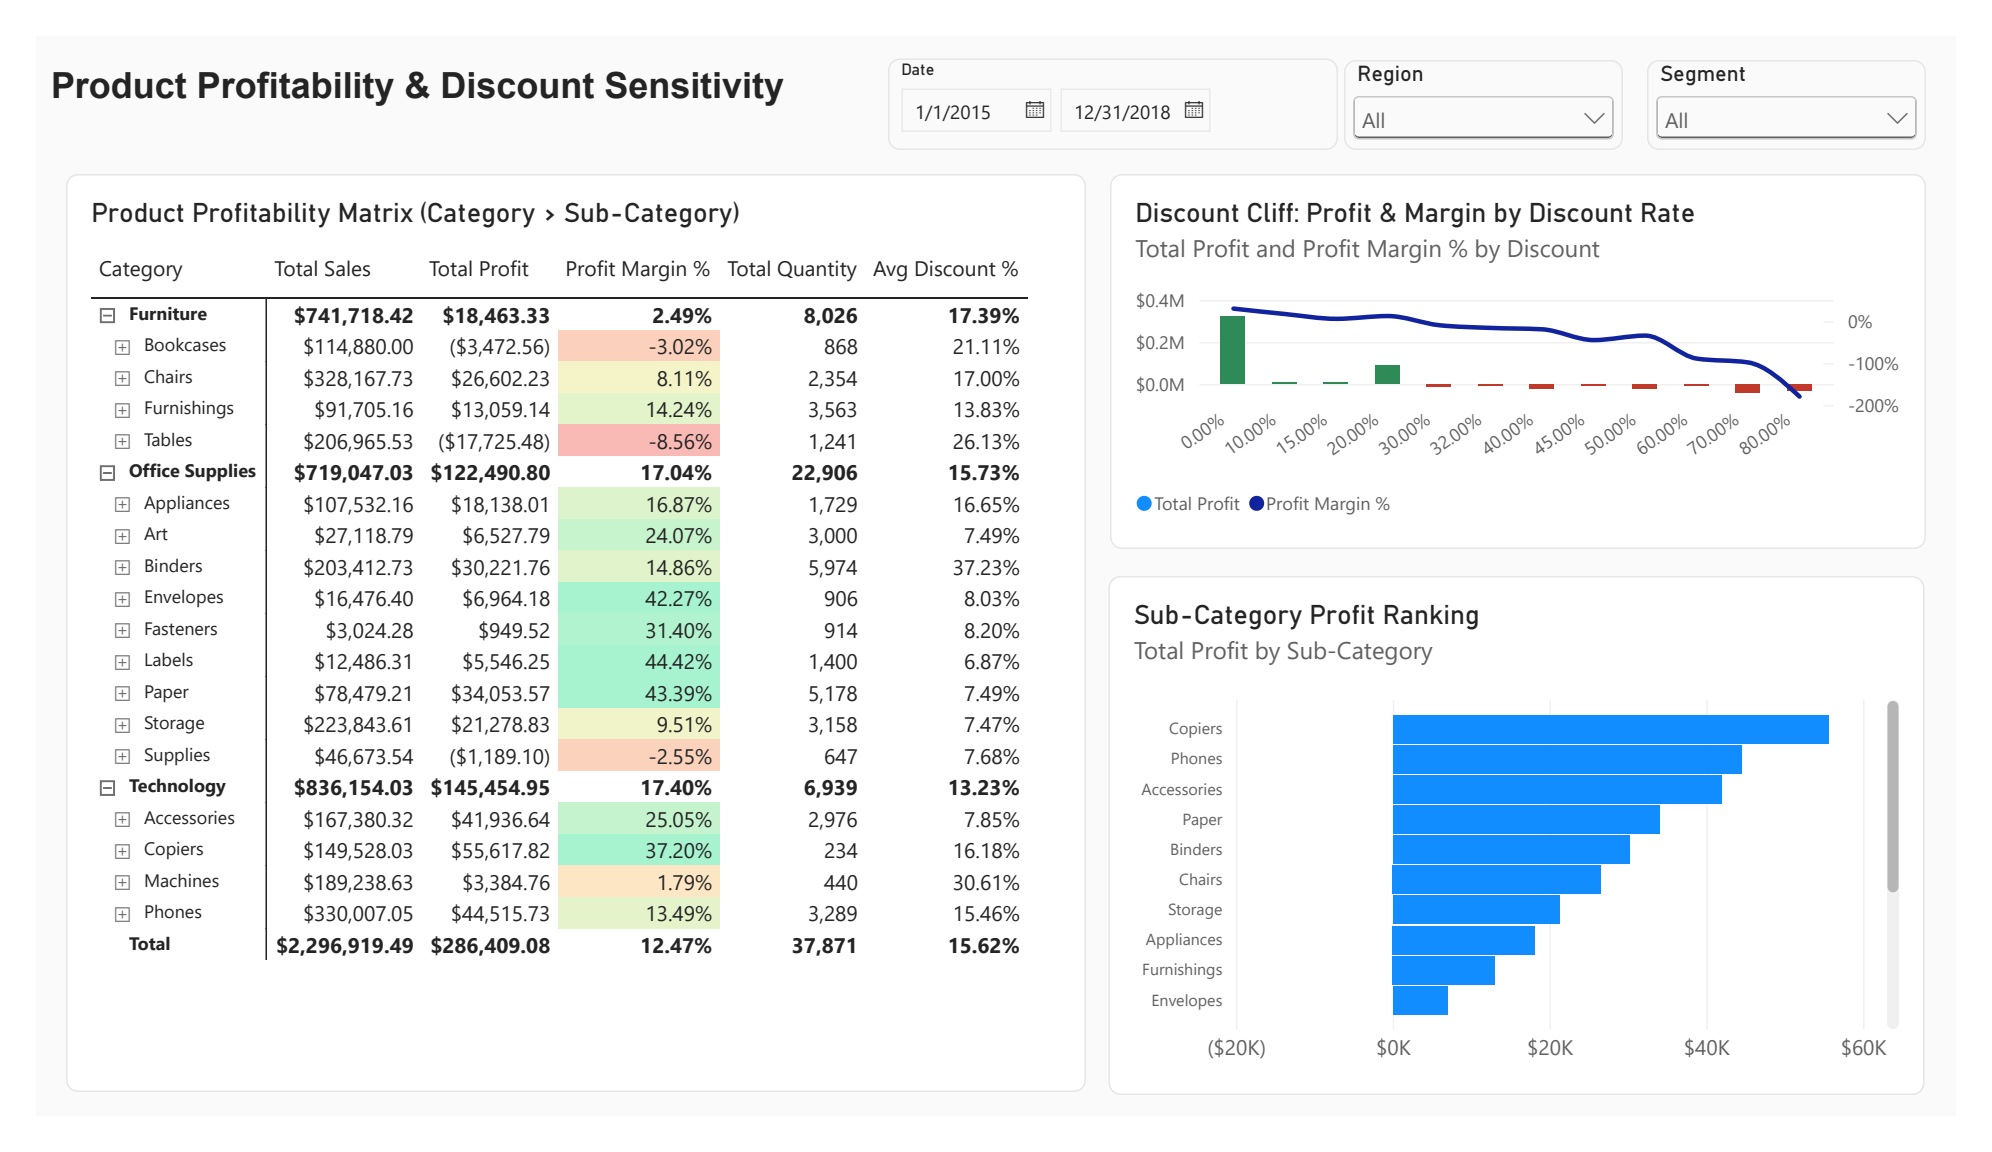

The dashboard page shown, as its layout file describes it:
{"tool":"powerbi","page":{"name":"Product Profitability","canvas":[1280,720],"ordinal":1},"visuals":[{"type":"textbox","box":[9.6,0,546.9,74.6],"z":0},{"type":"slicer","fields":{"Values":["Dim_Date.Date"]},"box":[568,15.3,300.2,61],"z":1000},{"type":"slicer","fields":{"Values":["Fact_Orders.Region"]},"box":[872,16,186,60],"z":2000},{"type":"slicer","fields":{"Values":["Dim_Customer.Segment"]},"box":[1074,16,186,60],"z":3000},{"type":"pivotTable","title":"Product Profitability Matrix (Category > Sub-Category)","fields":{"Rows":["Dim_Product.Category","Dim_Product.Sub-Category","Dim_Product.Product Name"],"Values":["_Measure.Total Sales","_Measure.Total Profit","_Measure.Profit Margin %","_Measure.Total Quantity","_Measure.Avg Discount %"]},"box":[20,92,680,612],"z":4000},{"type":"lineClusteredColumnComboChart","title":"Discount Cliff: Profit & Margin by Discount Rate","fields":{"Category":["Fact_Orders.Discount"],"Y":["_Measure.Total Profit"],"Y2":["_Measure.Profit Margin %"]},"box":[716,92,544,250],"z":5000},{"type":"clusteredBarChart","title":"Sub-Category Profit Ranking","fields":{"Category":["Dim_Product.Sub-Category"],"Y":["_Measure.Total Profit"]},"box":[715,359.8,544,346],"z":6000}]}

Visuals, with their boxes in screenshot pixels (x1, y1, x2, y2), scaled from the page's 1280x720 canvas onto the 1992x1152 screenshot:
textbox: x1=15, y1=0, x2=866, y2=119
slicer - Dim_Date.Date: x1=884, y1=24, x2=1351, y2=122
slicer - Fact_Orders.Region: x1=1357, y1=26, x2=1647, y2=122
slicer - Dim_Customer.Segment: x1=1671, y1=26, x2=1961, y2=122
"Product Profitability Matrix (Category > Sub-Category)" pivotTable: x1=31, y1=147, x2=1089, y2=1126
"Discount Cliff: Profit & Margin by Discount Rate" lineClusteredColumnComboChart: x1=1114, y1=147, x2=1961, y2=547
"Sub-Category Profit Ranking" clusteredBarChart: x1=1113, y1=576, x2=1959, y2=1129
